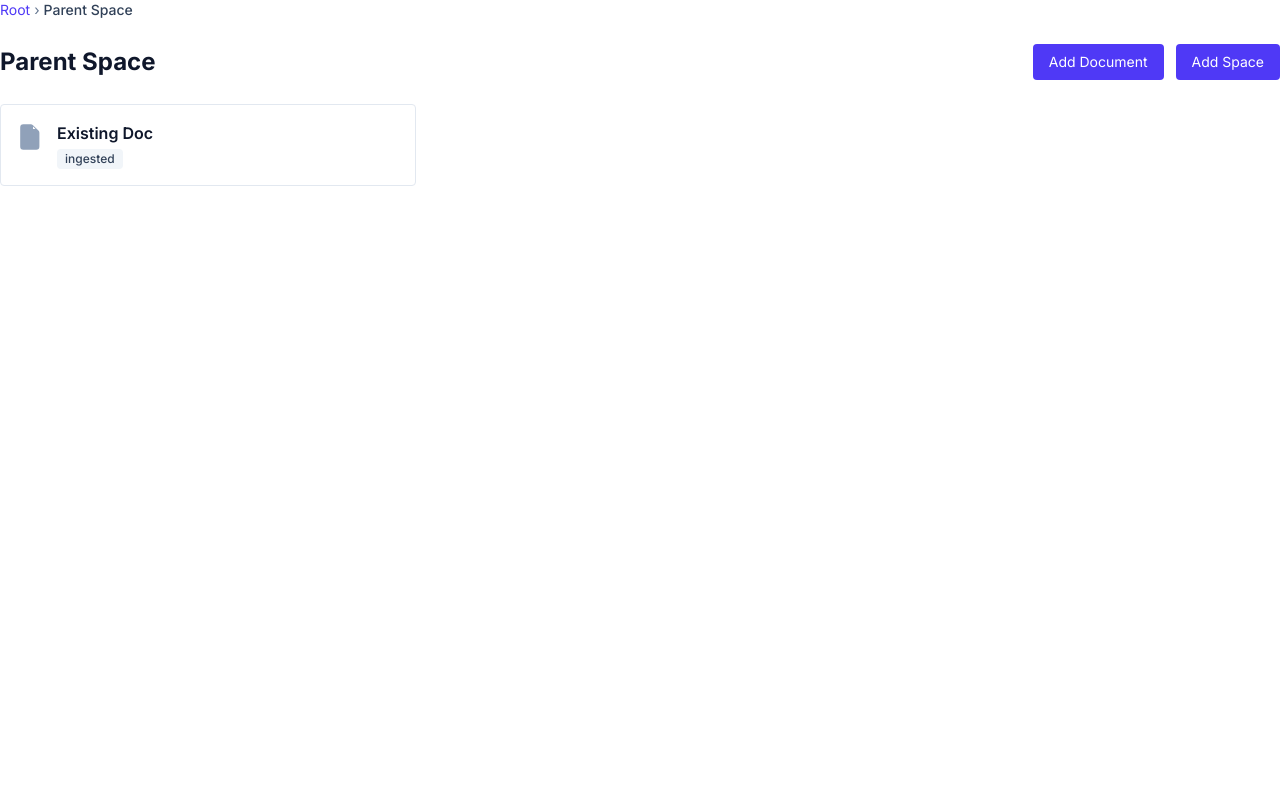
Space page — Add Document button (US1) › opens the dialog with the current space preselected as destination
Expected: the heading "Parent Space" is shown, left=0, top=46, right=156, bottom=78
Click the button "Add Document" at (1098, 62), box left=1033, top=44, right=1164, bottom=80
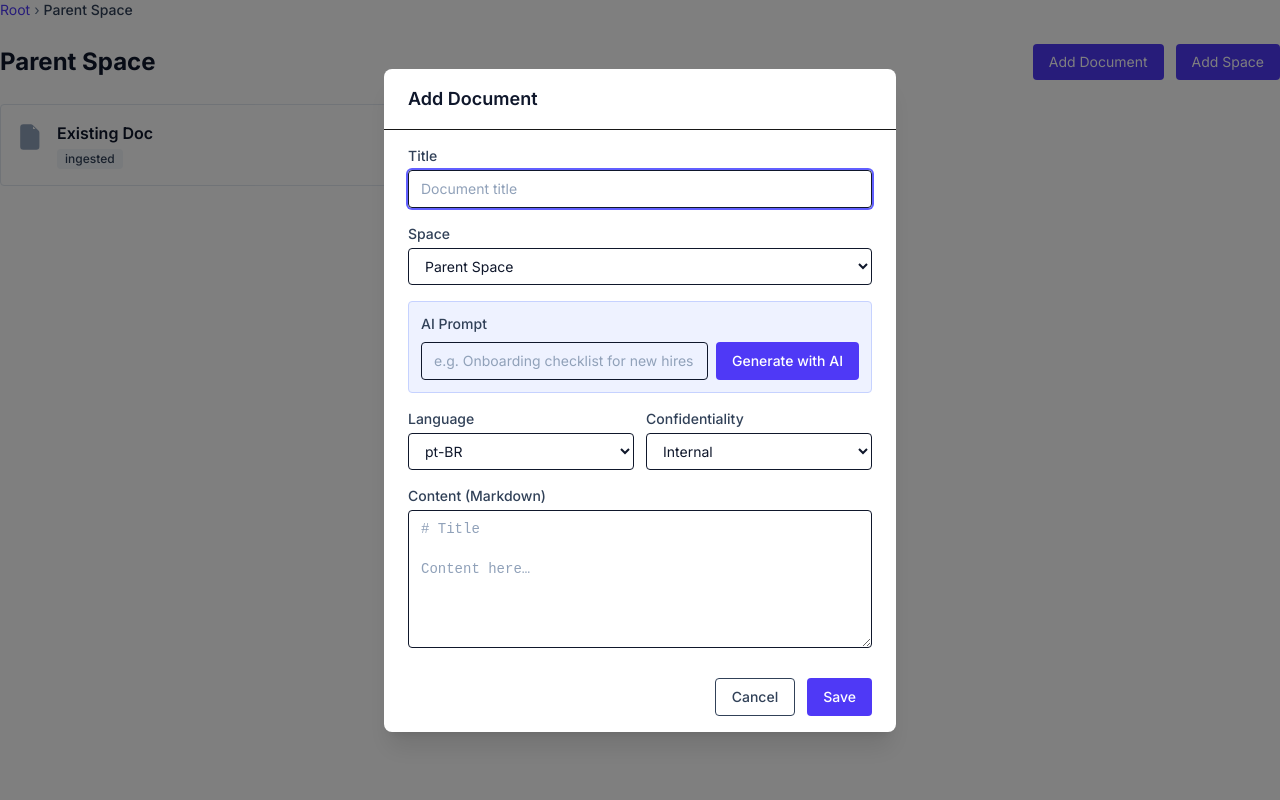
Now the dialog is shown, box left=384, top=68, right=896, bottom=732
Now the dropdown labelled "Space" shows "Parent Space", box left=408, top=248, right=872, bottom=284
